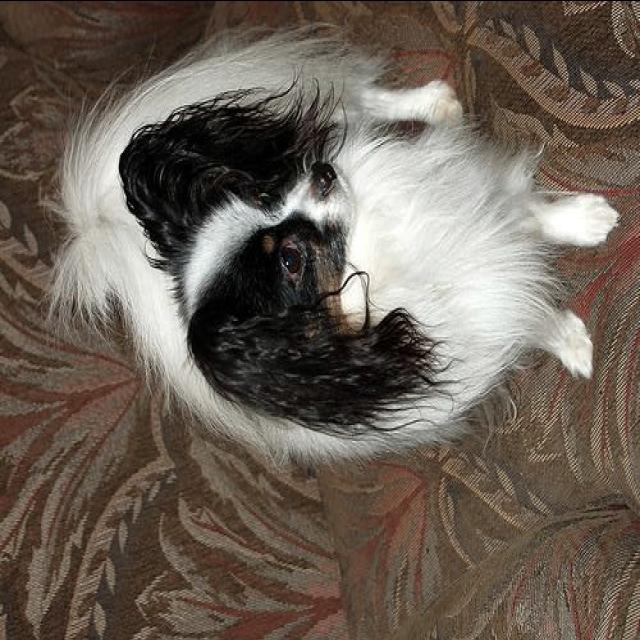papillon: (39, 21, 624, 477)
